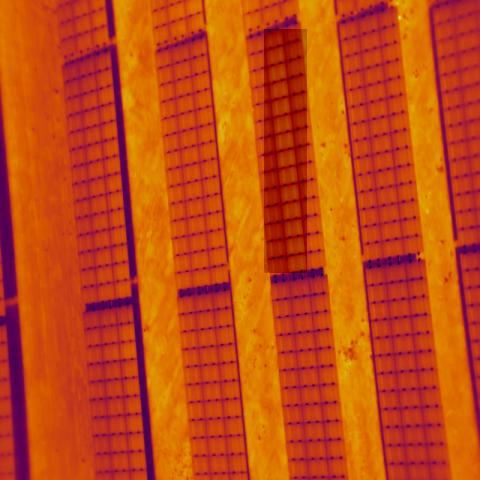fault: (264, 30, 307, 273)
